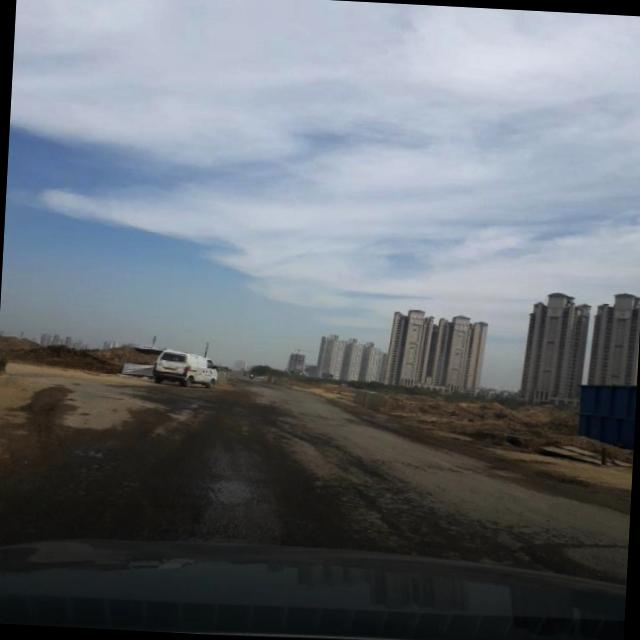crack: (308, 460, 598, 566)
